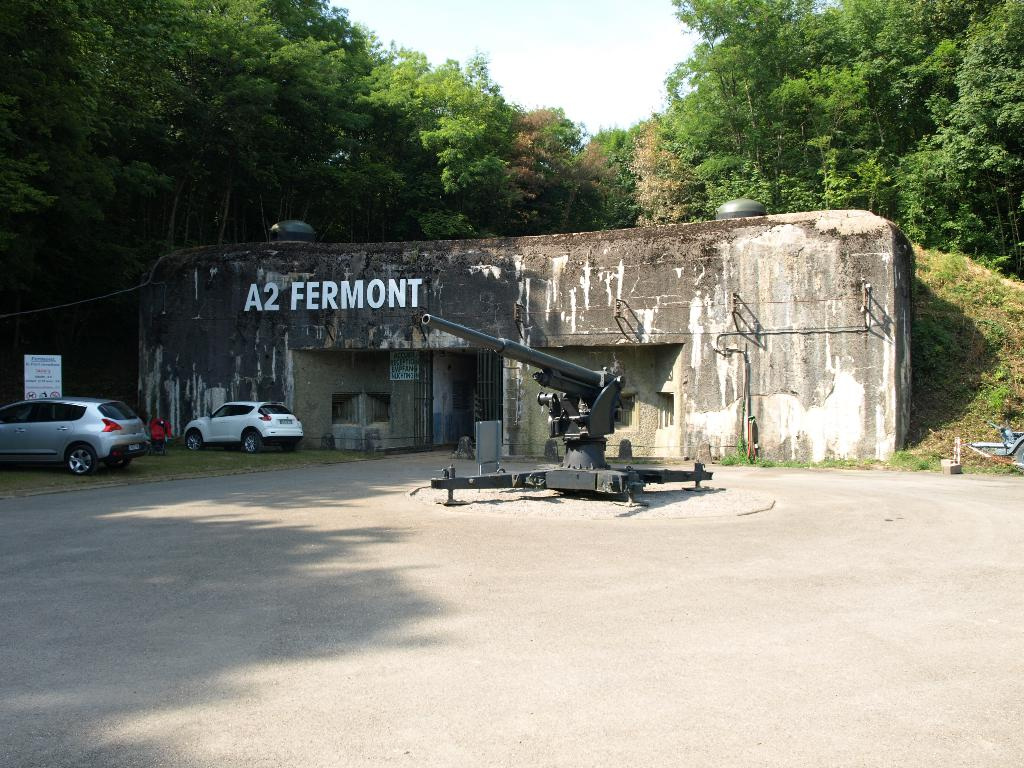Car: (1, 388, 155, 476), (178, 399, 307, 456), (140, 406, 177, 458)
